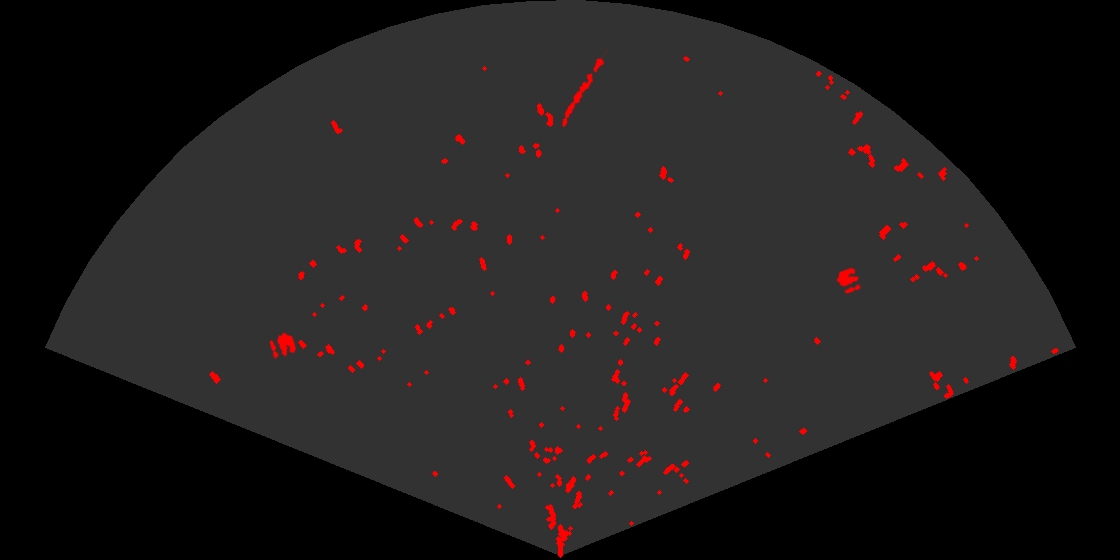ball: (835, 266, 863, 296), (268, 331, 298, 359)
chain: (560, 48, 610, 129)
